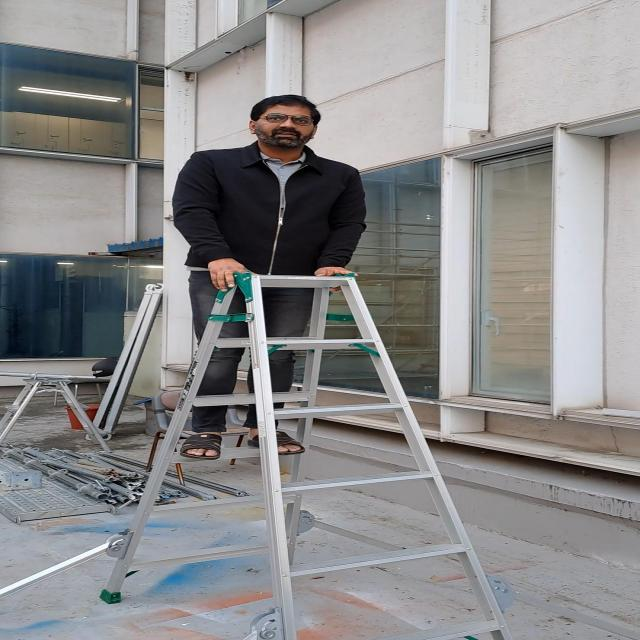boots: (0, 263, 640, 640)
vest: (171, 92, 371, 460)
